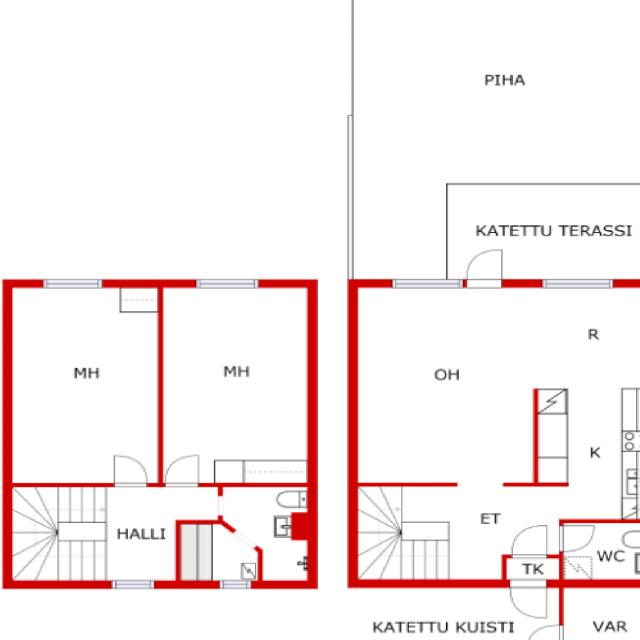door: (467, 250, 502, 288), (511, 580, 546, 618), (512, 524, 547, 558), (114, 456, 147, 488), (165, 456, 198, 487), (559, 526, 594, 551), (527, 624, 564, 640)
